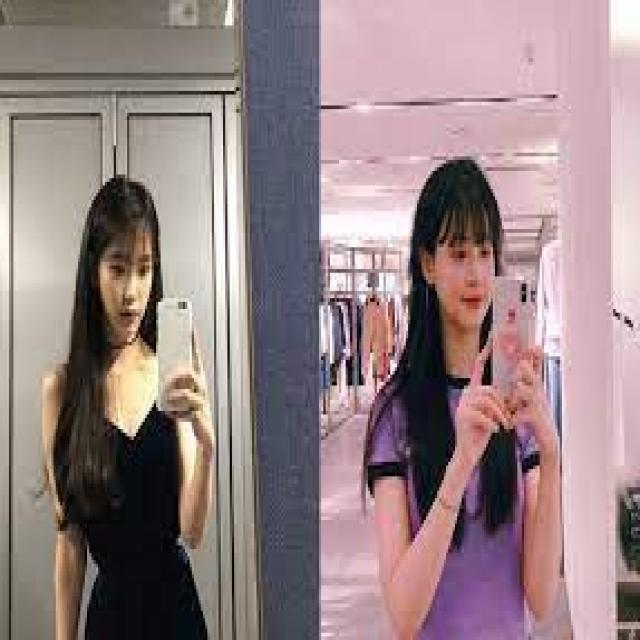Phone: (491, 274, 538, 412), (158, 295, 196, 413)
